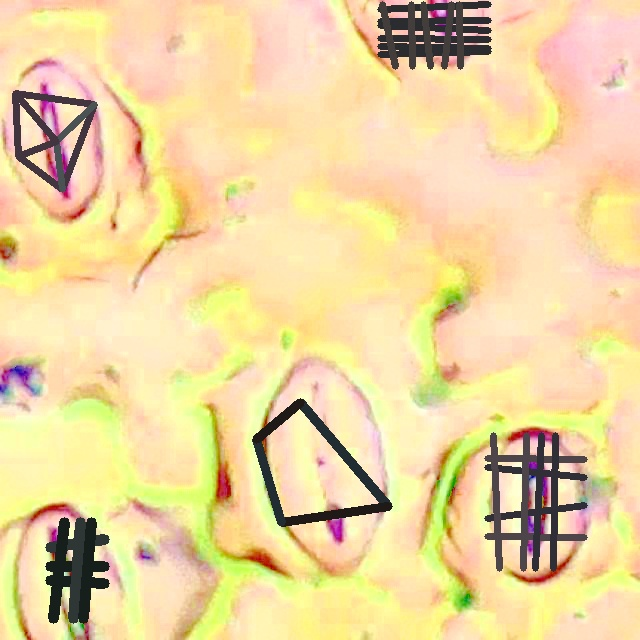open: (253, 398, 391, 526), (484, 432, 587, 571), (15, 90, 97, 192), (378, 2, 490, 68), (45, 517, 109, 622)
